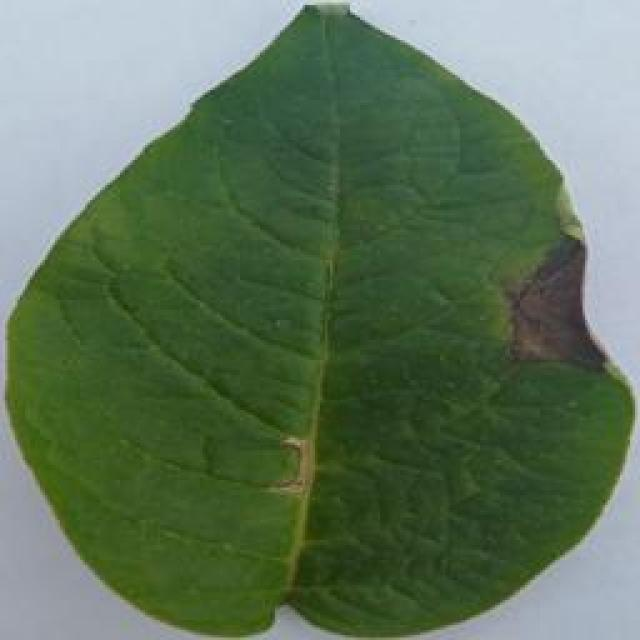Potato_Late_Blight: (5, 2, 622, 634)
